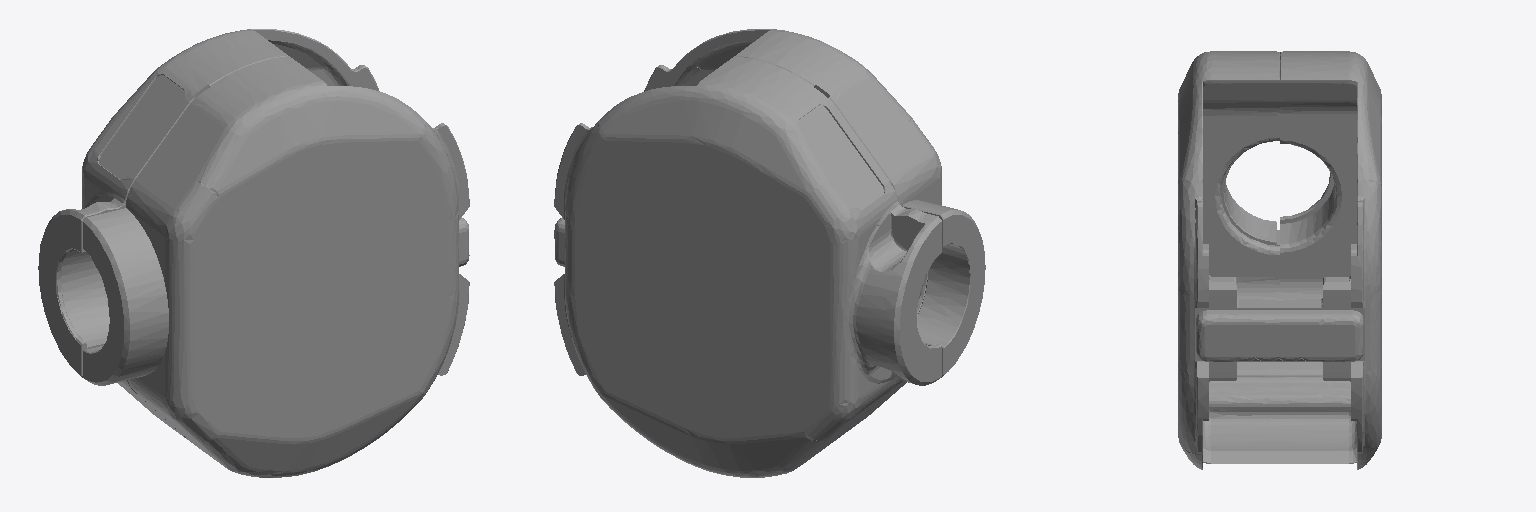
Rendered from palm_H_UV_100430.obj.
3 renders of one model, left to right at view 1: azimuth 30°, elevation 25°; view 2: azimuth 150°, elevation 25°; view 3: azimuth 270°, elevation 25°, orthographic.
Parts seen in each view (by area): view 1: palm_H_palm_HShape; view 2: palm_H_palm_HShape; view 3: palm_H_palm_HShape.
Part boxes in pixels (x1,y1,x2,y2): palm_H_palm_HShape: (38,29,469,477); palm_H_palm_HShape: (554,29,985,477); palm_H_palm_HShape: (1178,51,1381,469).
Size of the model in its own units: 0.0961 by 0.102 by 0.0485.